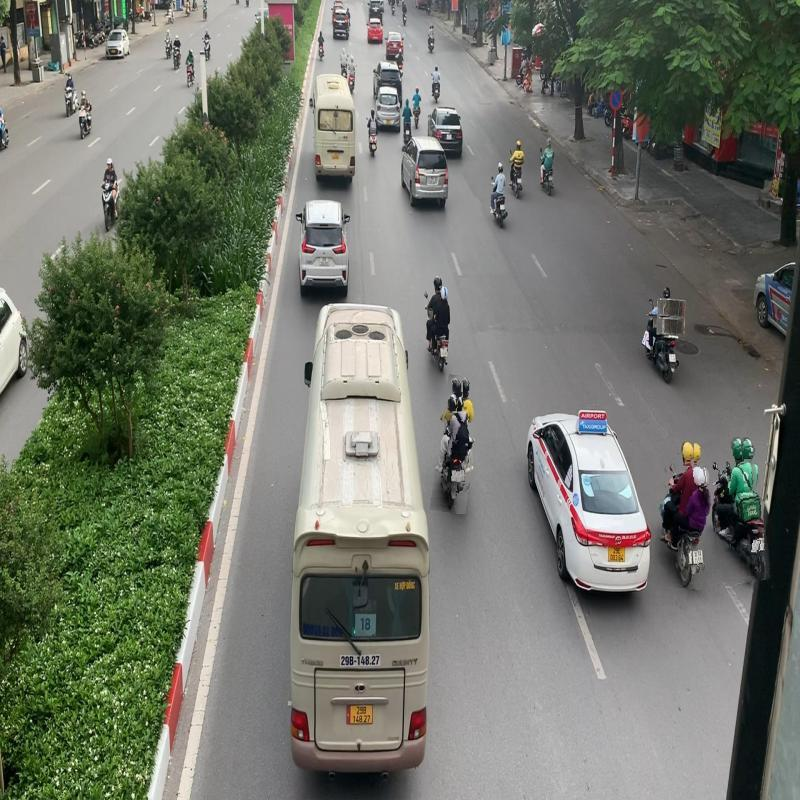helmet: (681, 440, 694, 466), (741, 437, 756, 459), (694, 464, 706, 487), (447, 393, 459, 413), (452, 378, 463, 397), (752, 540, 760, 554)
licenseplate: (692, 549, 704, 564), (456, 469, 466, 482)
motorcyclist: (706, 434, 768, 584), (654, 439, 714, 589), (435, 376, 480, 514)
